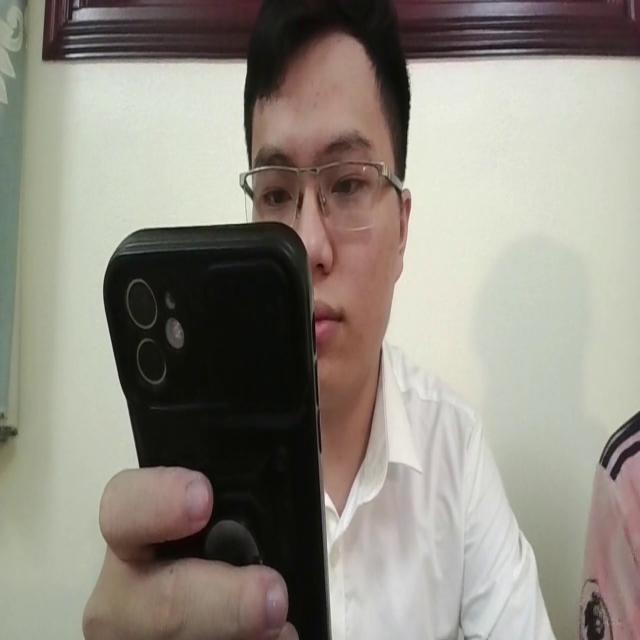phone: (101, 217, 335, 640)
student: (81, 0, 562, 640)
